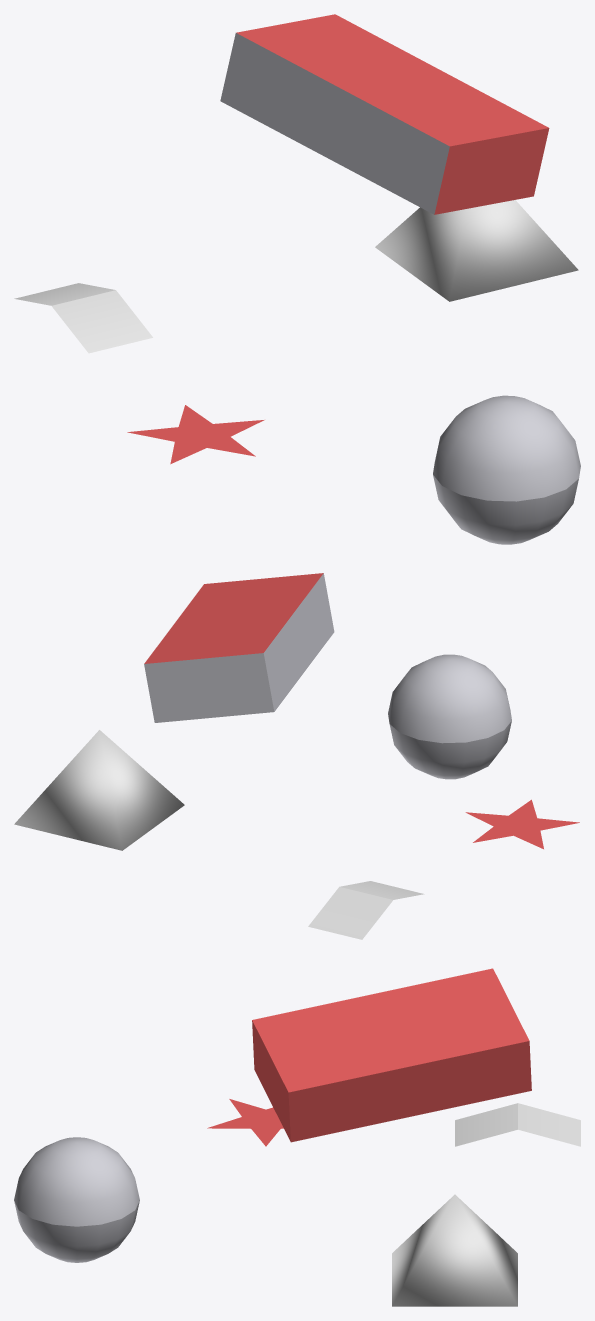
The picture shows the model from 3 angles, top to bottom: view 1: azimuth 30°, elevation 25°; view 2: azimuth 150°, elevation 25°; view 3: azimuth 270°, elevation 25°; orthographic projection. The views are drawn at different scales.
Parts seen in each view (by area): view 1: Box, Sphere, Pyramid, Pinched, Star; view 2: Box, Sphere, Pyramid, Pinched, Star; view 3: Box, Sphere, Pyramid, Pinched, Star.
Boxes of the visible parts, <box> form: Box: <box>220,14,549,214</box>; Sphere: <box>433,395,580,544</box>; Pyramid: <box>375,200,578,301</box>; Pinched: <box>14,283,152,353</box>; Star: <box>127,405,264,464</box>; Box: <box>144,573,334,722</box>; Sphere: <box>388,654,511,779</box>; Pyramid: <box>14,730,184,850</box>; Pinched: <box>308,881,424,939</box>; Star: <box>465,799,579,849</box>; Box: <box>252,968,531,1142</box>; Sphere: <box>14,1137,139,1262</box>; Pyramid: <box>392,1194,517,1306</box>; Pinched: <box>455,1103,580,1146</box>; Star: <box>207,1099,283,1146</box>.
Bounding box in the file's own units: 7.81 × 4.88 × 9.
